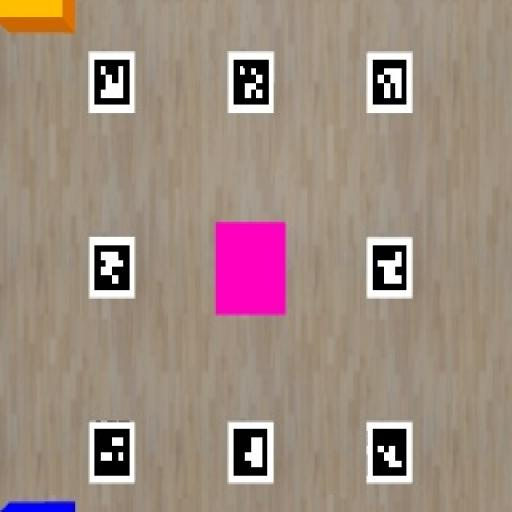car: (215, 222, 286, 315), (0, 500, 76, 511)
fire: (0, 0, 75, 34)
